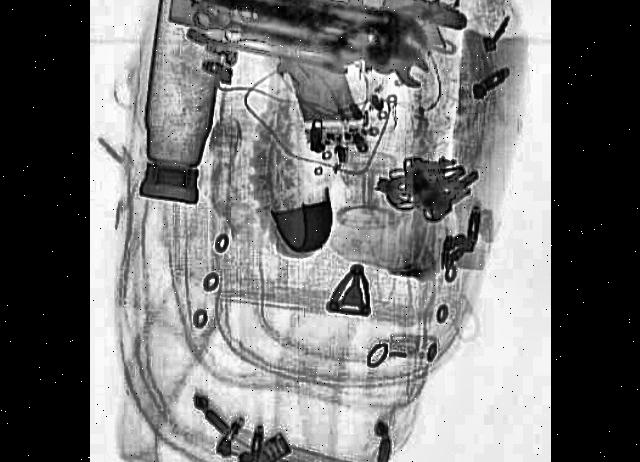Pliers: (192, 1, 430, 93)
